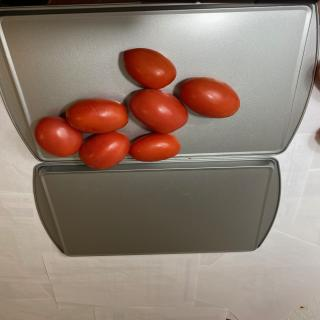Chilli: (34, 47, 240, 169)
Tomato: (129, 88, 189, 134), (180, 77, 240, 118), (65, 98, 128, 134), (123, 48, 177, 89), (34, 116, 83, 157), (79, 131, 130, 170), (128, 133, 180, 162)
